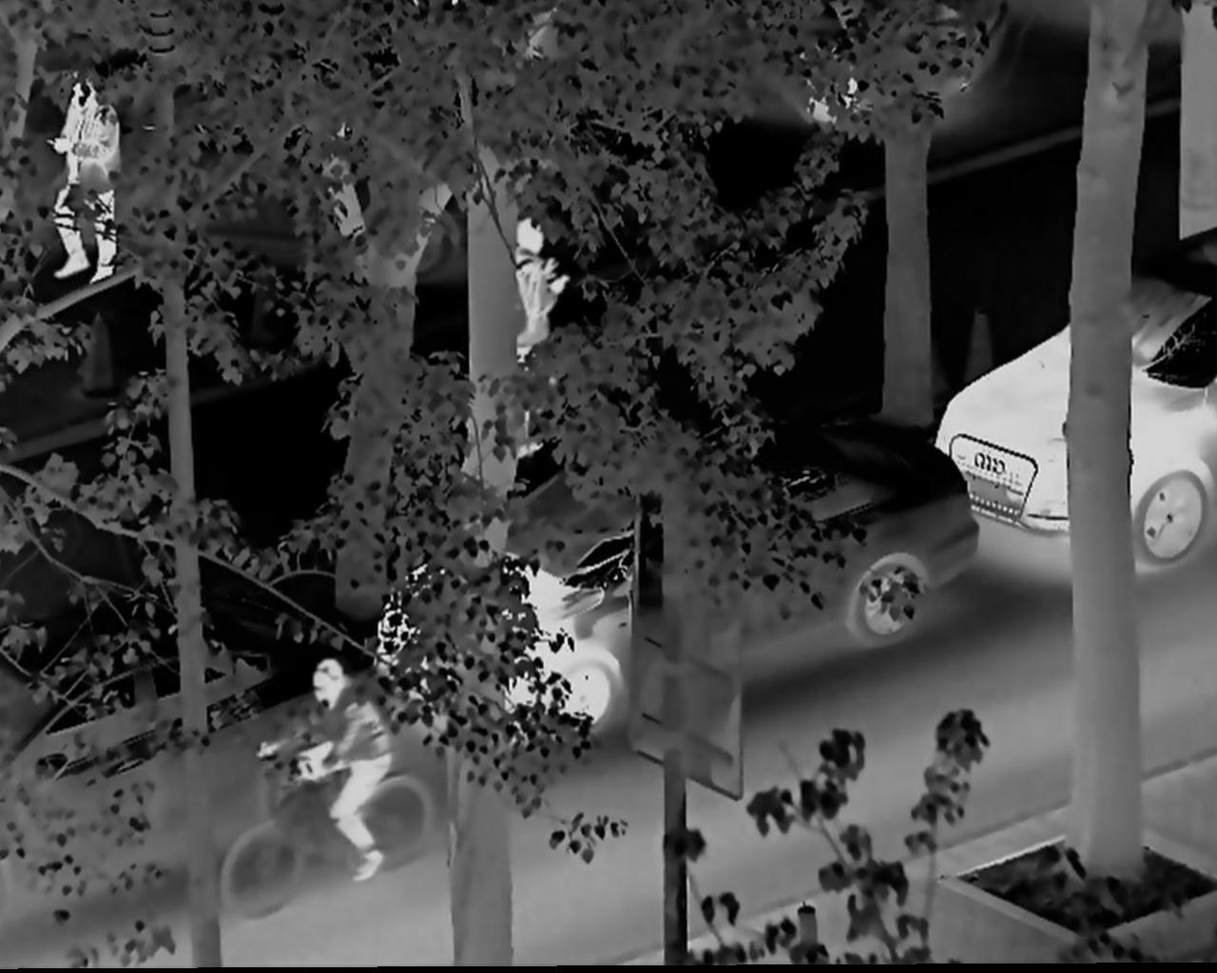person: (249, 654, 406, 893), (485, 217, 599, 455), (37, 76, 128, 295)
